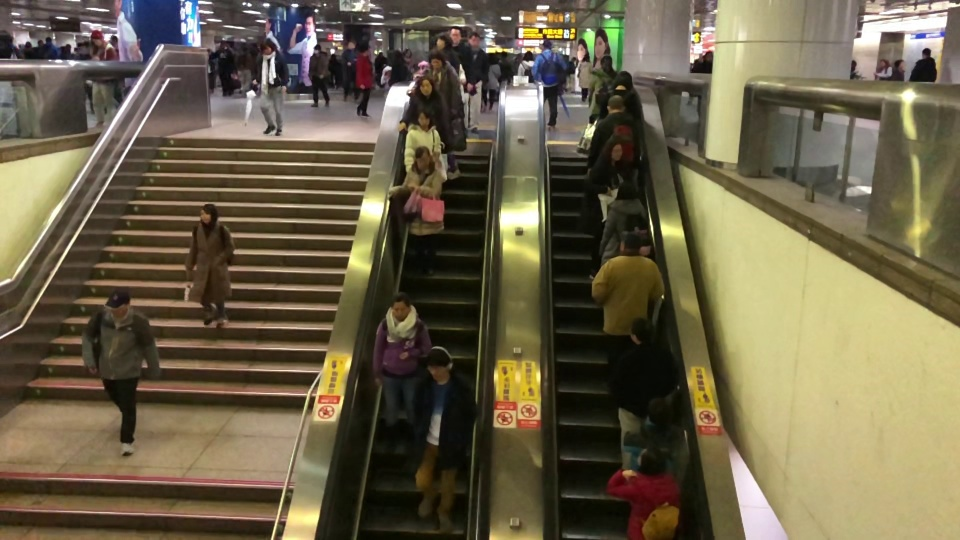person_head: (636, 446, 670, 473), (426, 346, 452, 381), (647, 397, 671, 427), (628, 317, 654, 344), (390, 291, 411, 321), (108, 290, 132, 316), (618, 232, 641, 253), (616, 180, 639, 199), (414, 145, 431, 170), (614, 70, 635, 90), (199, 202, 218, 222), (606, 94, 625, 114), (417, 75, 435, 96), (435, 32, 453, 50), (610, 136, 622, 162), (427, 50, 444, 68), (416, 106, 430, 126), (468, 31, 481, 49), (91, 30, 105, 46), (0, 29, 12, 47), (259, 39, 274, 53), (599, 53, 613, 68), (450, 26, 461, 45), (360, 44, 370, 57), (522, 50, 533, 61), (542, 39, 552, 50), (921, 47, 931, 58), (895, 58, 905, 68), (312, 43, 321, 53), (347, 39, 355, 50), (850, 59, 857, 71), (880, 58, 889, 67), (247, 35, 255, 45), (704, 50, 711, 60), (582, 54, 590, 62), (207, 46, 215, 54), (220, 43, 228, 50), (26, 40, 31, 49), (45, 36, 51, 42)
person_vbox: (81, 289, 162, 458), (412, 346, 478, 536), (608, 316, 678, 470), (371, 291, 432, 455), (591, 232, 666, 364), (387, 145, 443, 277), (606, 445, 681, 539), (183, 202, 236, 329), (579, 136, 623, 279), (622, 397, 688, 472), (426, 50, 463, 181), (585, 94, 642, 176), (598, 180, 651, 266), (251, 38, 290, 137), (397, 75, 448, 150), (531, 39, 569, 132), (87, 31, 117, 127), (449, 26, 474, 137), (403, 105, 442, 173), (467, 31, 488, 135), (587, 53, 616, 122), (598, 70, 639, 117), (308, 42, 331, 108), (355, 43, 374, 118), (694, 48, 713, 113), (341, 38, 359, 104), (908, 47, 938, 82), (217, 43, 236, 97), (239, 36, 256, 92), (577, 54, 591, 102), (205, 47, 217, 95), (517, 49, 534, 81), (0, 30, 18, 60), (39, 35, 60, 59), (873, 57, 892, 79), (849, 59, 866, 81), (892, 59, 905, 82), (23, 40, 34, 59)
